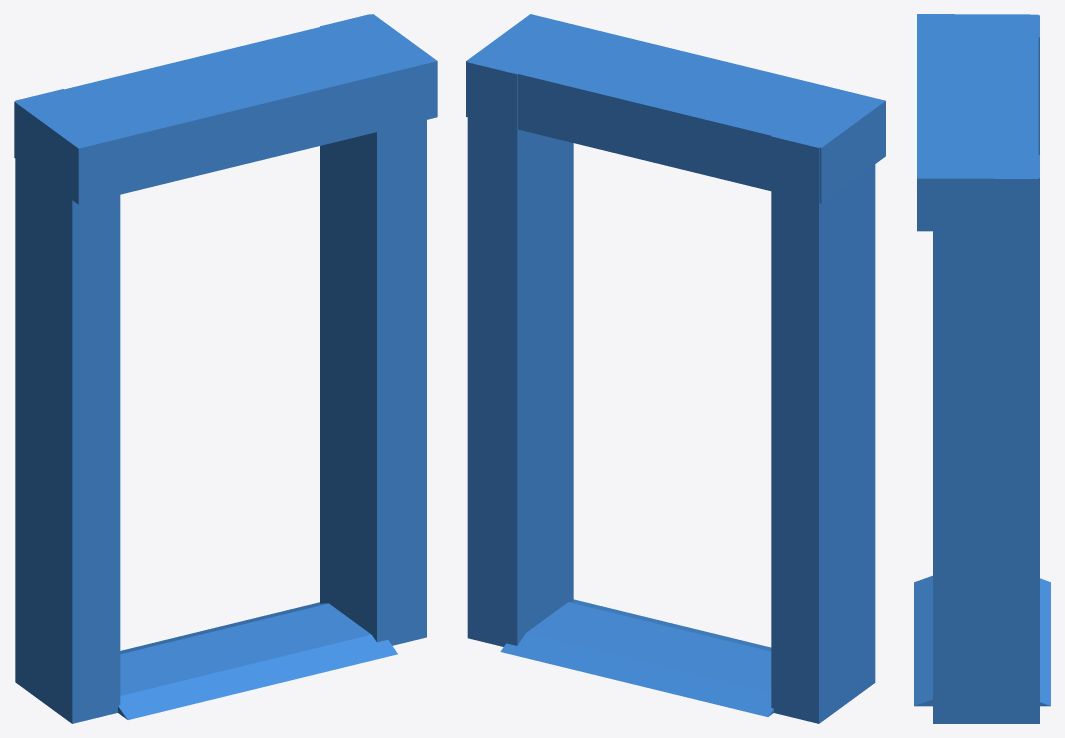
File: Collision_DoorFrame_Flat_Brick.fbx
The picture shows the model from 3 angles, left to right: view 1: azimuth 30°, elevation 25°; view 2: azimuth 150°, elevation 25°; view 3: azimuth 270°, elevation 25°; orthographic projection. The views are drawn at different scales.
Visible parts, largest first — view 1: UCX_DoorFrame_Flat_Brick_01; view 2: UCX_DoorFrame_Flat_Brick_01; view 3: UCX_DoorFrame_Flat_Brick_01.
Boxes of the visible parts, left/top/right/bottom form: UCX_DoorFrame_Flat_Brick_01: left=14, top=14, right=437, bottom=723; UCX_DoorFrame_Flat_Brick_01: left=466, top=14, right=885, bottom=723; UCX_DoorFrame_Flat_Brick_01: left=914, top=14, right=1050, bottom=723.
Bounding box in the file's own units: 153 × 237 × 53.89.
